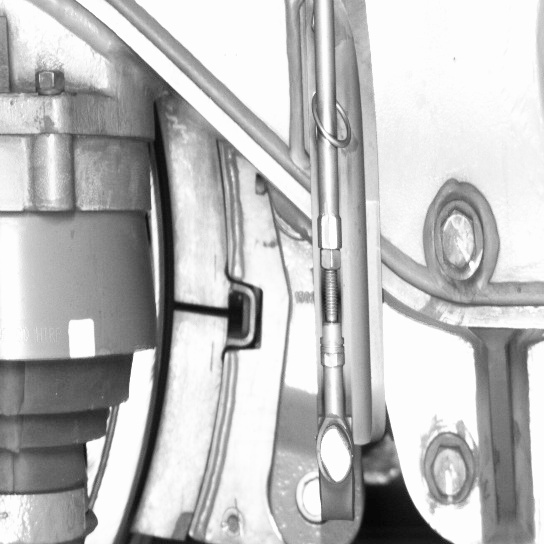KnifeSwitch: (112, 137, 237, 542)
